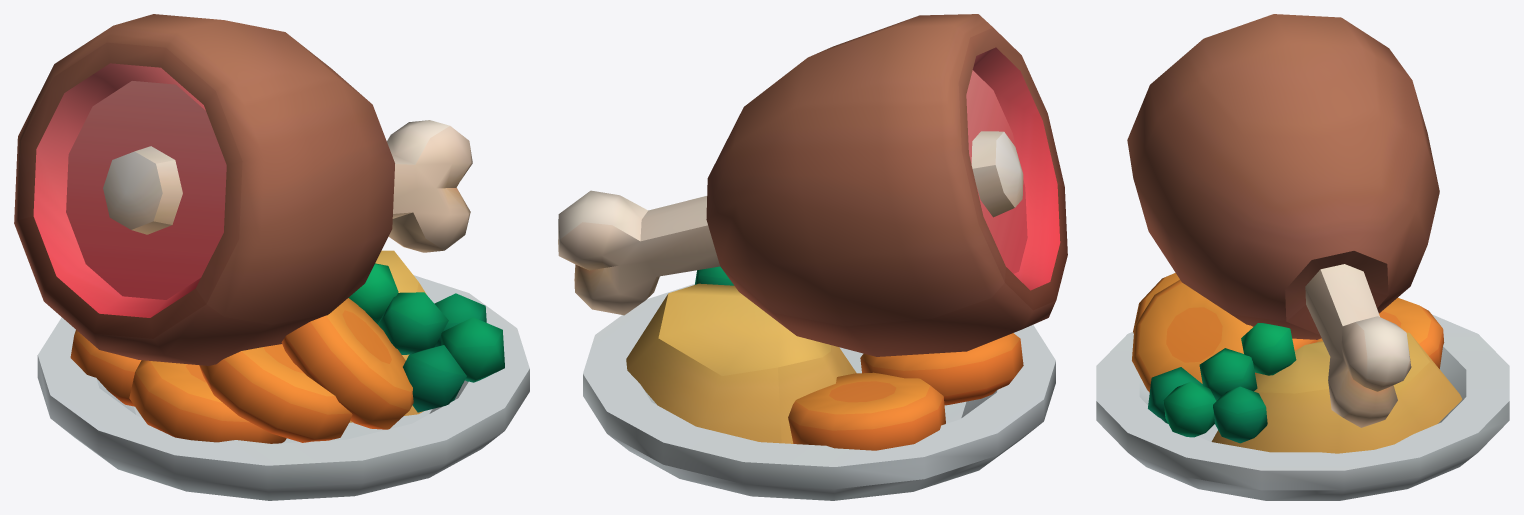
Rendered from kay-prato-jantar.gltf.
3 renders of one model, left to right at view 1: azimuth 30°, elevation 25°; view 2: azimuth 150°, elevation 25°; view 3: azimuth 270°, elevation 25°, orthographic. The views are drawn at different scales.
Visible parts, largest first — view 1: food_dinner; view 2: food_dinner; view 3: food_dinner.
Boxes of the visible parts, <box> form: food_dinner: <box>14,14,529,500</box>; food_dinner: <box>558,14,1067,500</box>; food_dinner: <box>1096,14,1509,500</box>.
Bounding box in the file's own units: 0.6743 × 0.5901 × 0.6175.
1 material, 1 textured.
